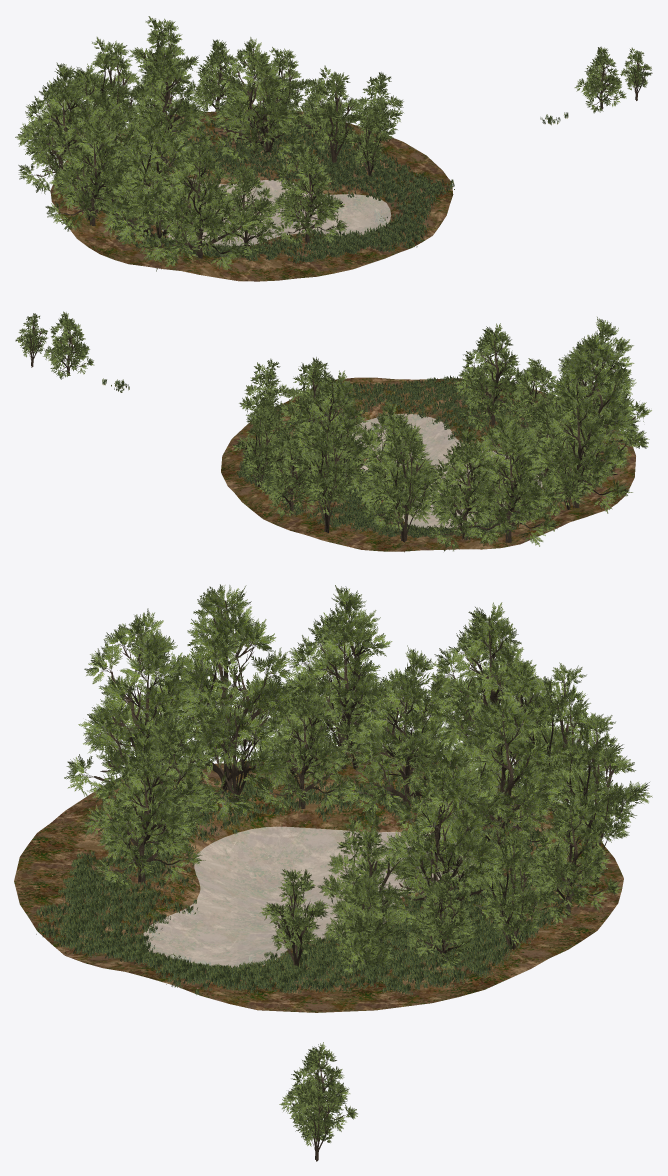
Rendered from low_poly_tree_with_scene-compressed.glb.
3 views of the same model, one above another, from view 1: azimuth 30°, elevation 25°; view 2: azimuth 150°, elevation 25°; view 3: azimuth 270°, elevation 25° (orthographic). The views are drawn at different scales.
Visible parts, largest first — view 1: Ground_2666, Leaves017_2700, Leaves016_2698, Leaves022_2710, Leaves020_2706, Leaves021_2708, Leaves003_2674, Leaves015_2696, Water_2667, Leaves011_2690, Leaves014_2694, Leaves009_2686 (+20 smaller); view 2: Ground_2666, Leaves020_2706, Leaves021_2708, Leaves016_2698, Leaves018_2702, Leaves015_2696, Leaves009_2686, Leaves022_2710, Leaves003_2674, Leaves008_2684, Leaves017_2700, Leaves002_2672 (+19 smaller); view 3: Ground_2666, Water_2667, Leaves016_2698, Leaves017_2700, Leaves022_2710, Leaves004_2676, Leaves003_2674, Leaves015_2696, Leaves020_2706, Leaves005_2678, Leaves021_2708, Leaves008_2684 (+22 smaller).
Part boxes in pixels (bbox=[...]): Ground_2666: bbox=[50, 110, 453, 281]; Leaves017_2700: bbox=[148, 139, 256, 270]; Leaves016_2698: bbox=[99, 112, 209, 271]; Leaves022_2710: bbox=[212, 37, 306, 163]; Leaves020_2706: bbox=[45, 103, 137, 231]; Leaves021_2708: bbox=[15, 62, 94, 194]; Leaves003_2674: bbox=[120, 43, 212, 170]; Leaves015_2696: bbox=[272, 141, 348, 247]; Water_2667: bbox=[149, 174, 390, 246]; Leaves011_2690: bbox=[301, 65, 365, 151]; Leaves014_2694: bbox=[211, 163, 277, 256]; Leaves009_2686: bbox=[80, 37, 149, 125]; Ground_2666: bbox=[221, 377, 635, 551]; Leaves020_2706: bbox=[530, 386, 632, 515]; Leaves021_2708: bbox=[460, 413, 560, 546]; Leaves016_2698: bbox=[525, 331, 649, 494]; Leaves018_2702: bbox=[420, 426, 514, 551]; Leaves015_2696: bbox=[454, 323, 533, 430]; Leaves009_2686: bbox=[365, 423, 445, 531]; Leaves022_2710: bbox=[291, 370, 383, 490]; Leaves003_2674: bbox=[347, 399, 441, 532]; Leaves008_2684: bbox=[292, 418, 365, 515]; Leaves017_2700: bbox=[550, 317, 651, 454]; Leaves002_2672: bbox=[258, 430, 321, 519]; Ground_2666: bbox=[14, 750, 623, 1012]; Water_2667: bbox=[143, 826, 475, 967]; Leaves016_2698: bbox=[132, 584, 311, 826]; Leaves017_2700: bbox=[64, 608, 226, 813]; Leaves022_2710: bbox=[378, 743, 516, 933]; Leaves004_2676: bbox=[339, 645, 472, 817]; Leaves003_2674: bbox=[431, 691, 578, 878]; Leaves015_2696: bbox=[80, 731, 205, 892]; Leaves020_2706: bbox=[279, 585, 409, 780]; Leaves005_2678: bbox=[256, 675, 353, 814]; Leaves021_2708: bbox=[420, 602, 557, 780]; Leaves008_2684: bbox=[545, 712, 652, 853].
Bounding box in the file's own units: 87.96 × 22.91 × 54.27.
5 materials, 4 textured.
